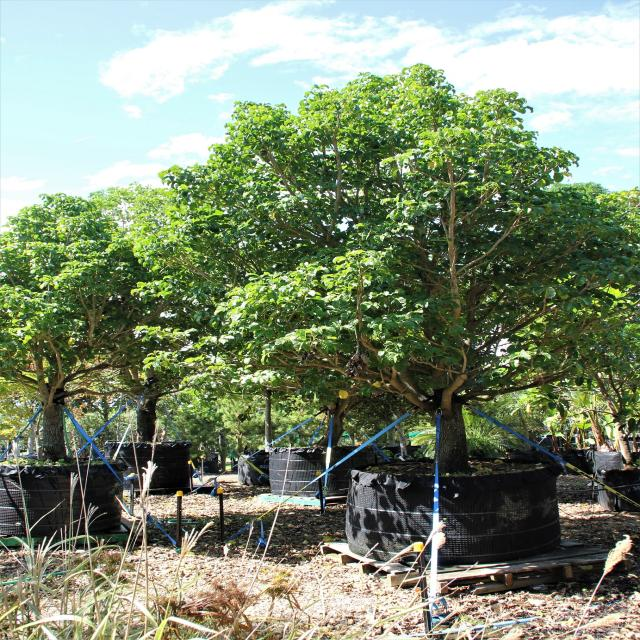Puriri: (120, 64, 640, 464)
